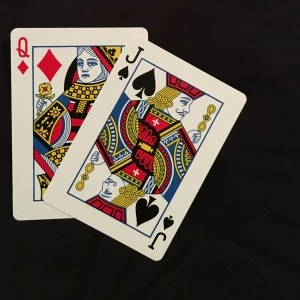card: (52, 37, 247, 263), (10, 28, 117, 221)
